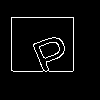P: (25, 25, 76, 80)
